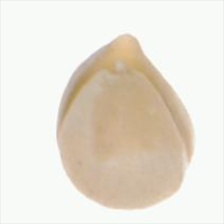L1: (93, 32, 148, 86)
L2: (56, 33, 196, 210)
